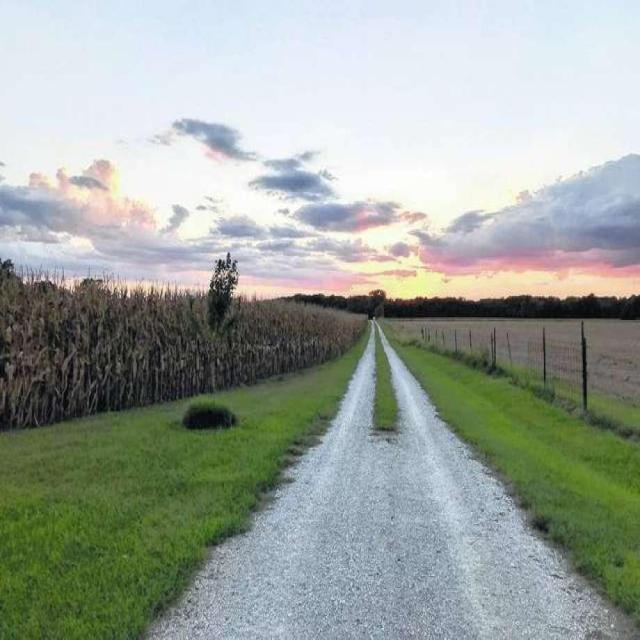cloud: (327, 160, 640, 273)
